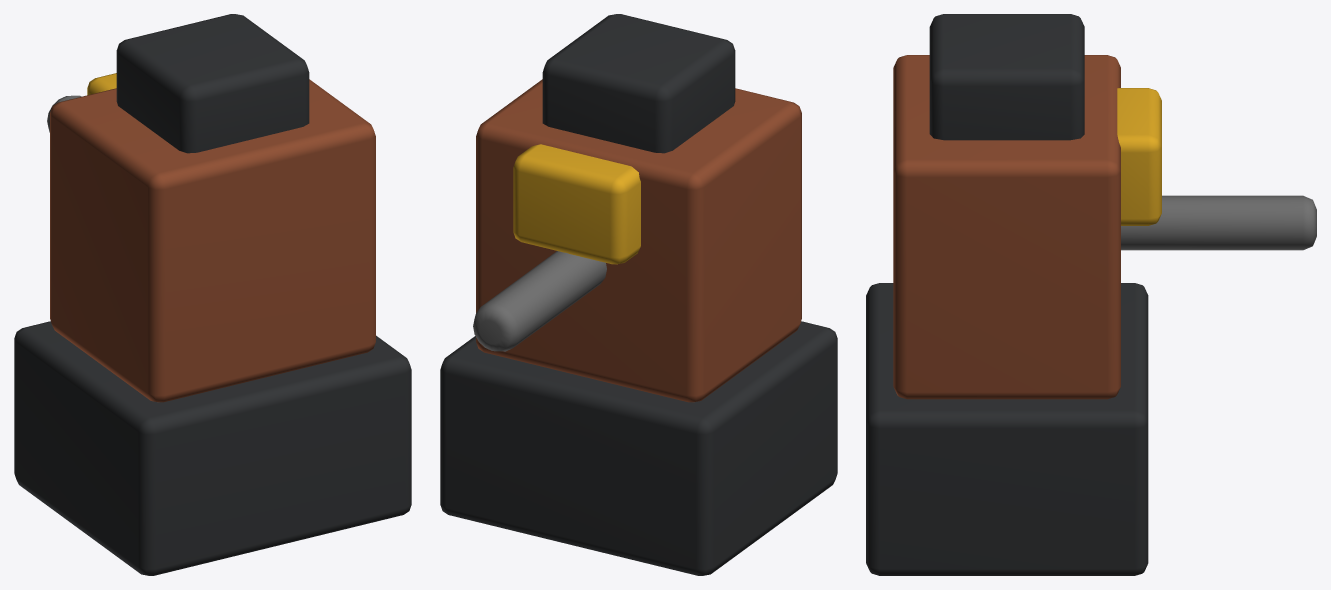
File: enemy.glb
3 renders of one model, left to right at view 1: azimuth 30°, elevation 25°; view 2: azimuth 150°, elevation 25°; view 3: azimuth 270°, elevation 25°, orthographic. The views are drawn at different scales.
Parts seen in each view (by area): view 1: enemy; view 2: enemy; view 3: enemy.
Boxes of the visible parts, x1,y1,x2,y2 form: enemy: [14, 14, 411, 575]; enemy: [440, 14, 837, 575]; enemy: [866, 14, 1316, 575].
Bounding box in the file's own units: 0.72 × 1.14 × 0.99.
